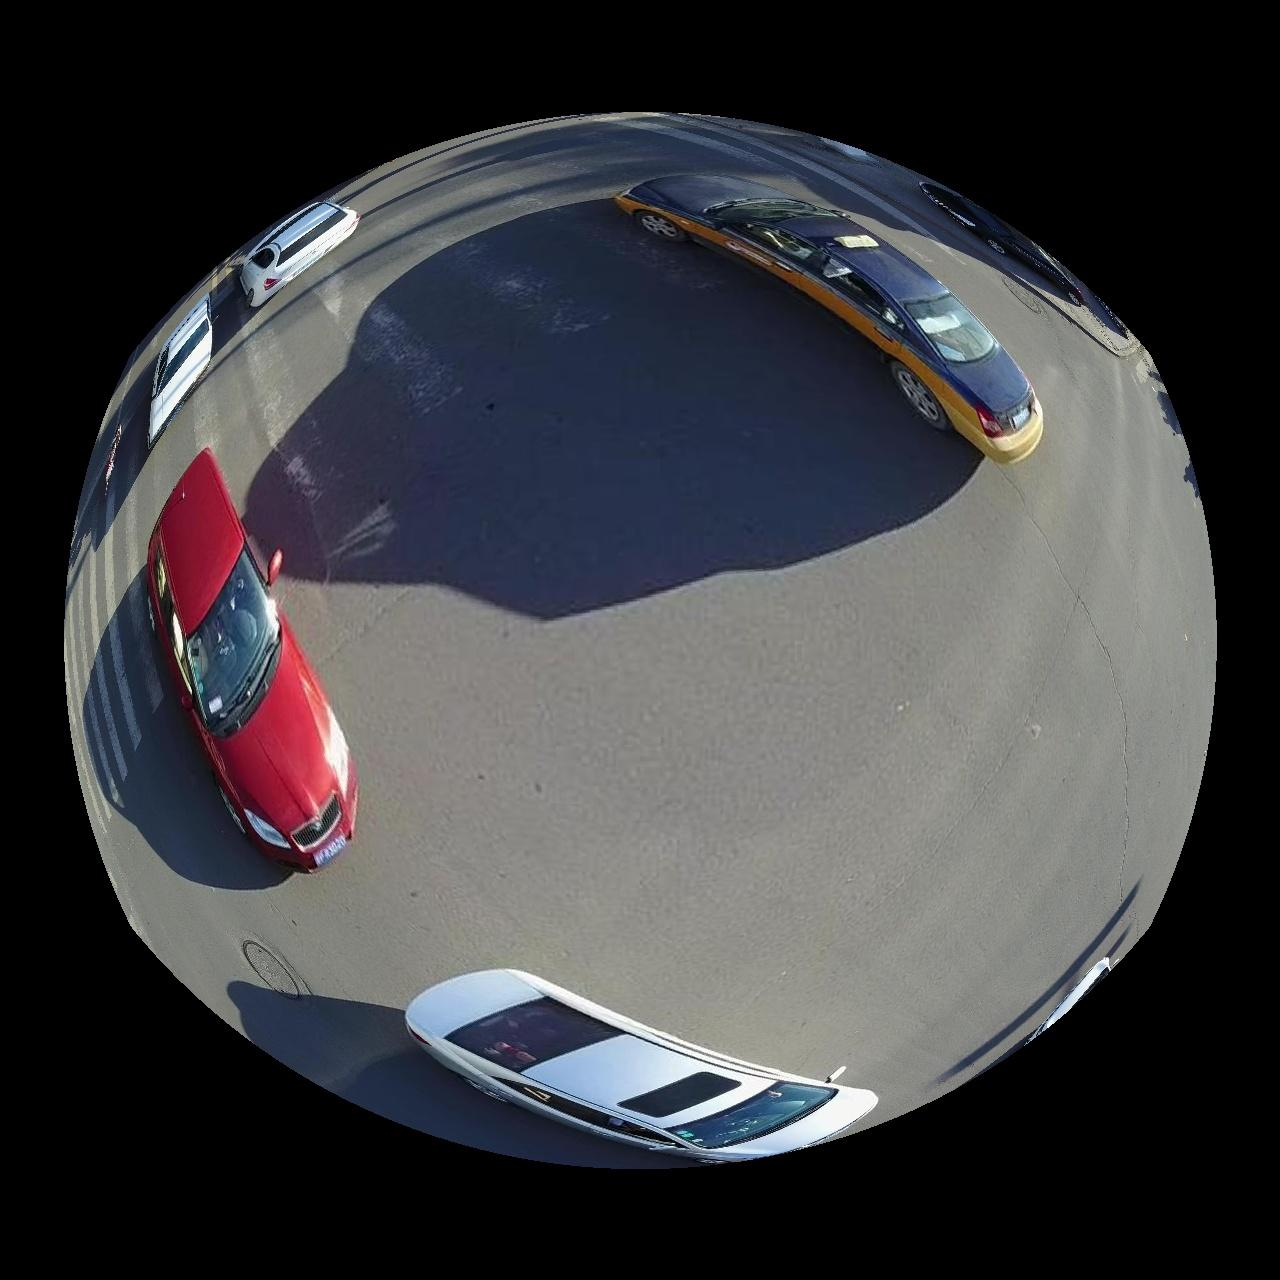cars: (615, 173, 1046, 463), (406, 971, 879, 1164), (147, 448, 358, 872)
